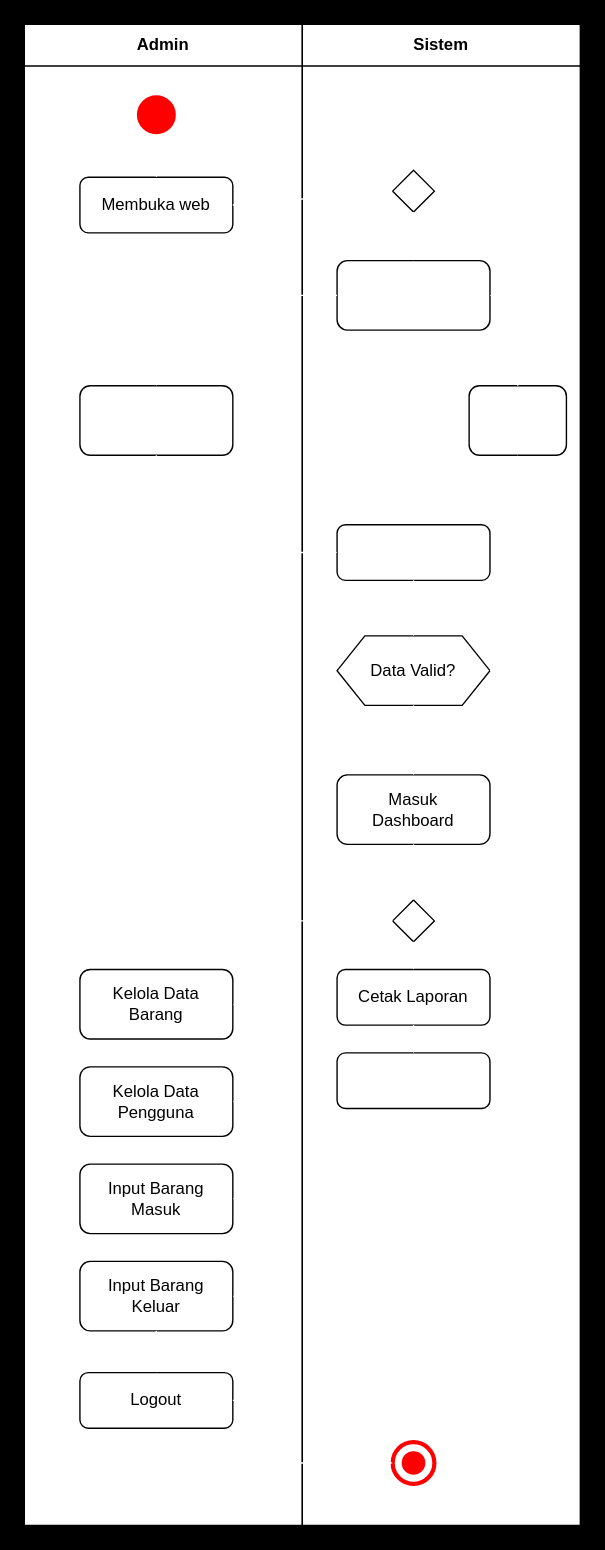
Image size: 605x1550. Some labels were removed from this diagram. The centre of each missing label's shape, as x and y in pixels:
"Input username & password" goes at (156,419).
"Lihat Riwayat" goes at (413,1080).
"Menampilkan form Login" goes at (413,294).
"Tampilkan Pesan Error" goes at (517,419).
"validasi data" goes at (413,551).
